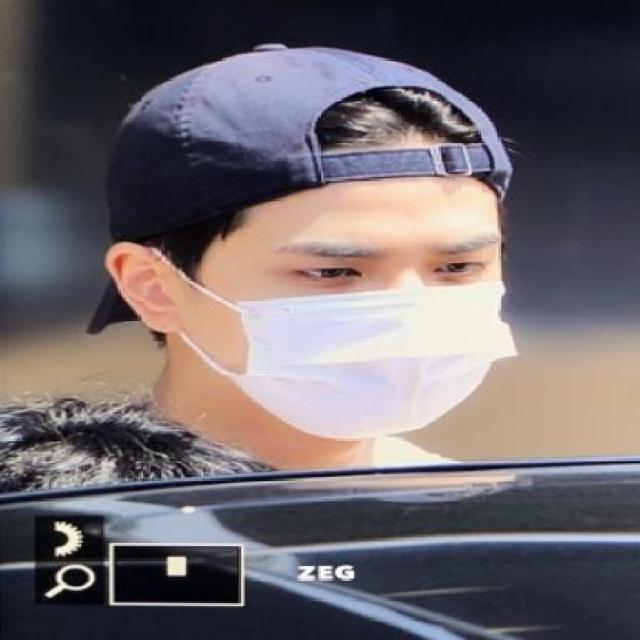hat: (90, 44, 512, 338)
